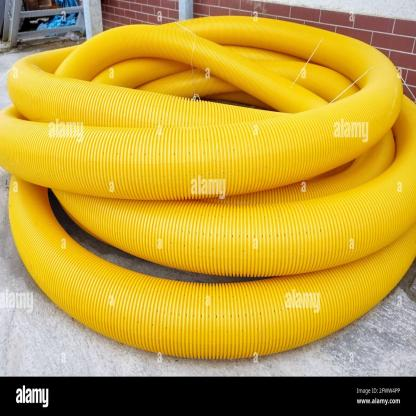PVC: (0, 15, 416, 358)
